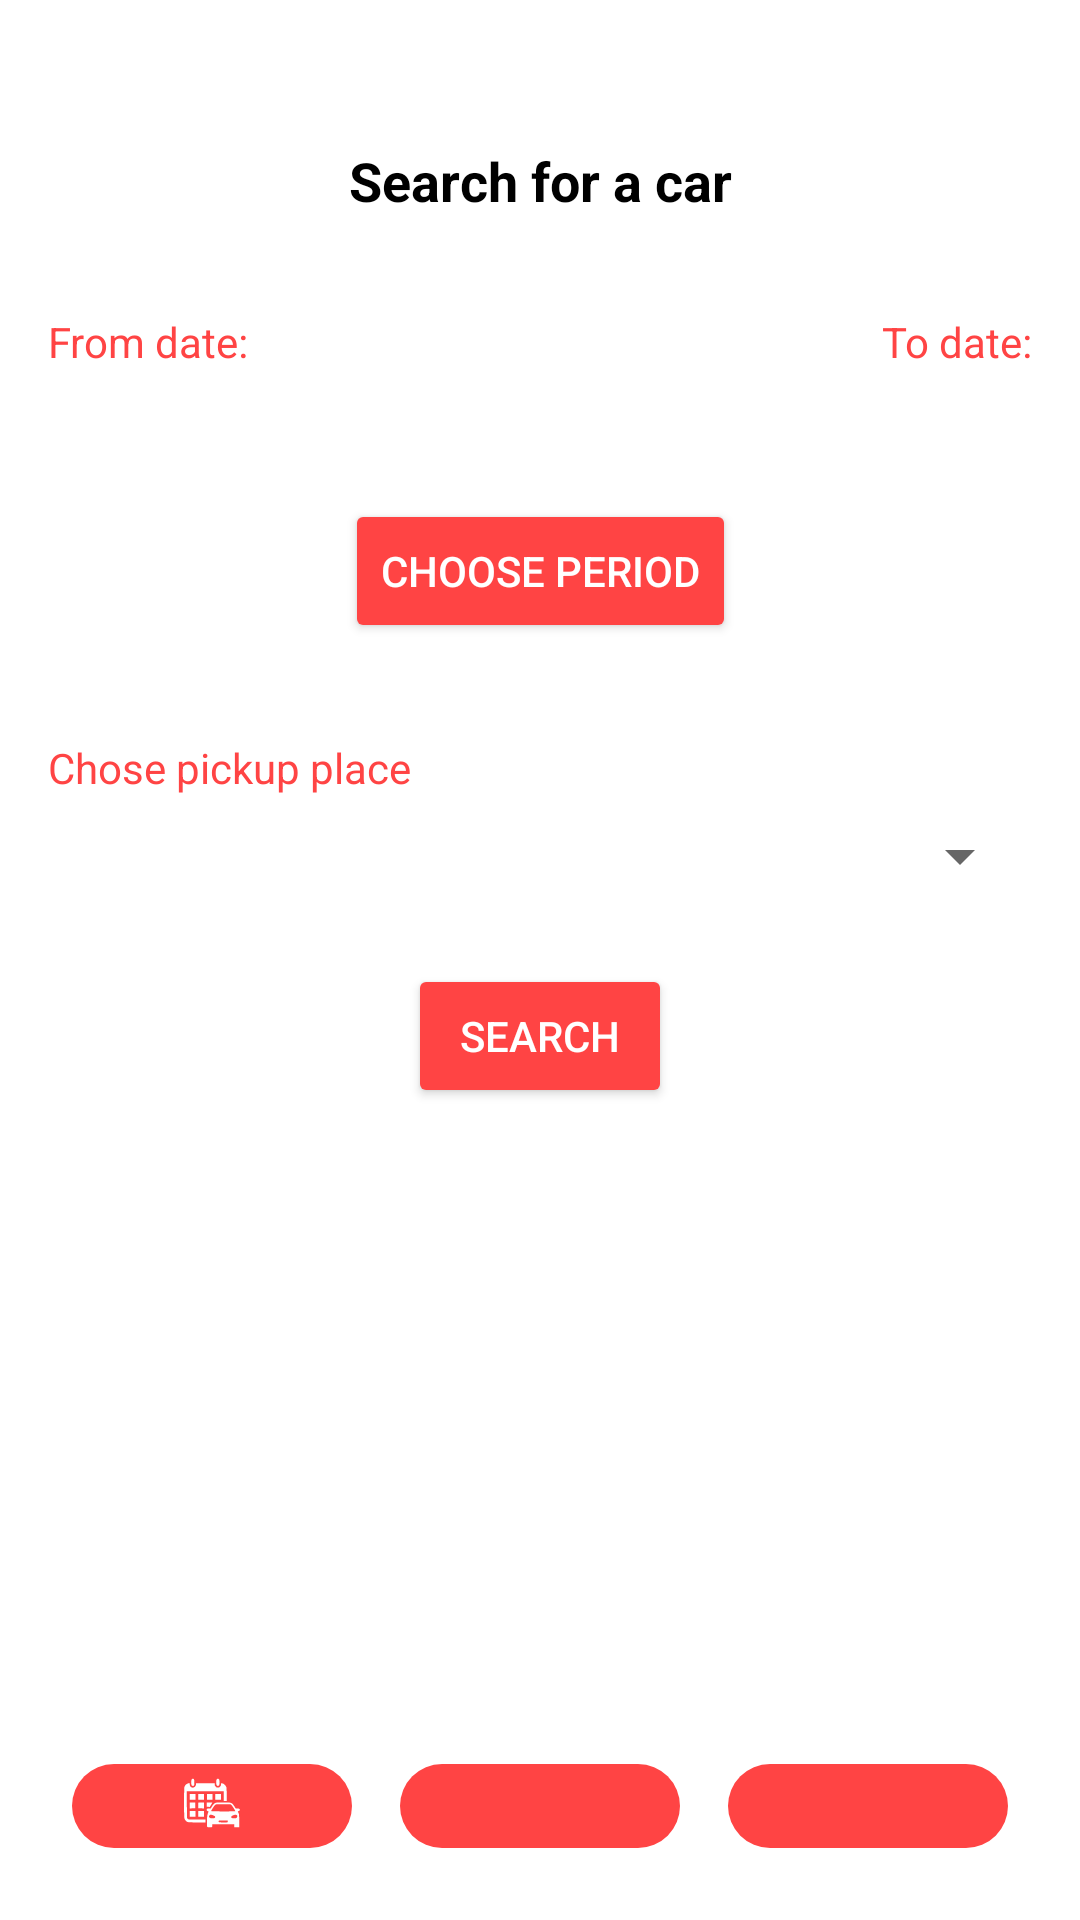

Named icons in this screenshot (1080px×1920px) and their bounding boxes, (x1, y1, x2, y2):
reservations: (72, 1764, 352, 1848)
